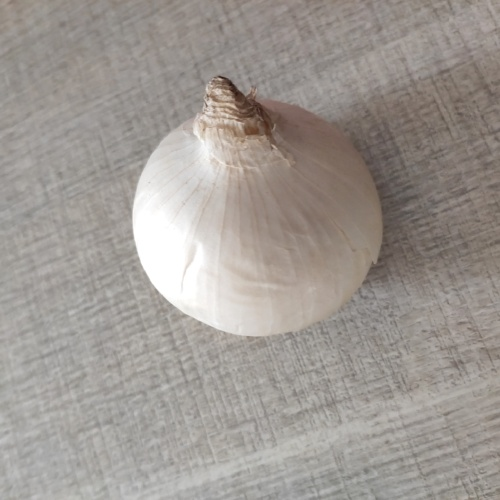cipolla: (124, 70, 391, 360)
